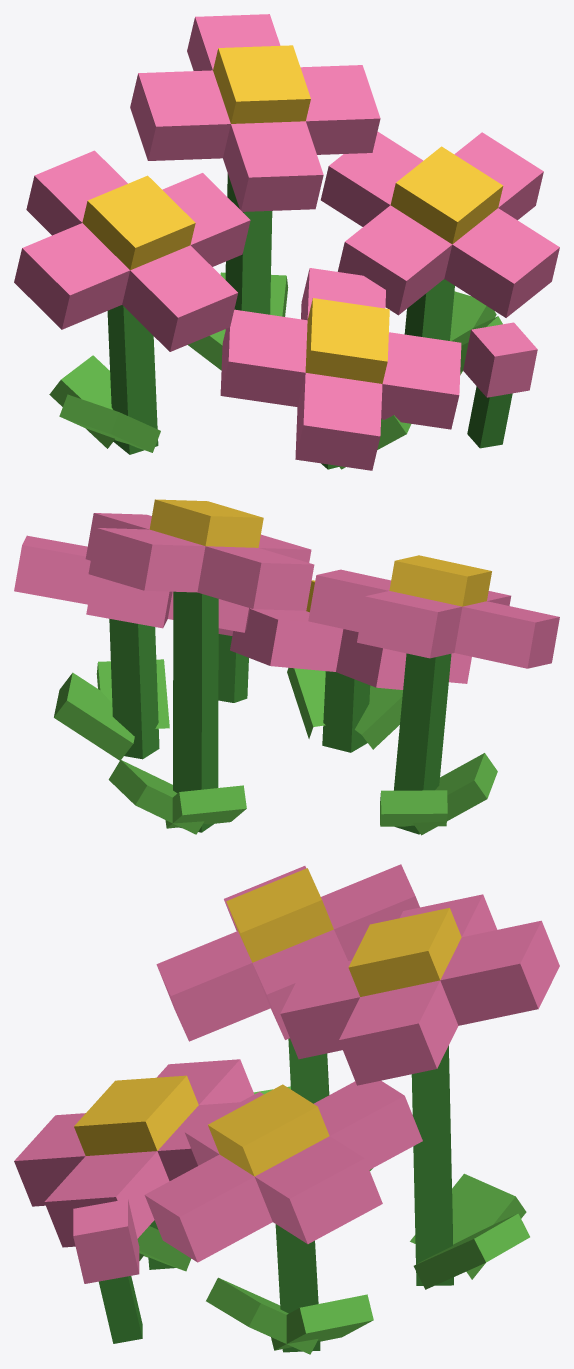
Rendered from Lobby_FlowerPink.glb.
3 views of the same model, one above another, from view 1: azimuth 30°, elevation 25°; view 2: azimuth 150°, elevation 25°; view 3: azimuth 270°, elevation 25° (orthographic). The views are drawn at different scales.
Visible parts, largest first — view 1: FlowerPink_Petals, FlowerPink_Centres, FlowerPink_Stems, FlowerPink_Leaves; view 2: FlowerPink_Petals, FlowerPink_Stems, FlowerPink_Leaves, FlowerPink_Centres; view 3: FlowerPink_Petals, FlowerPink_Centres, FlowerPink_Stems, FlowerPink_Leaves.
Part boxes in pixels (x1,y1,x2,y2): FlowerPink_Petals: (14, 14, 559, 470); FlowerPink_Centres: (82, 45, 503, 383); FlowerPink_Stems: (107, 173, 512, 469); FlowerPink_Leaves: (49, 272, 502, 469); FlowerPink_Petals: (14, 513, 559, 689); FlowerPink_Stems: (109, 591, 451, 834); FlowerPink_Leaves: (54, 659, 497, 835); FlowerPink_Centres: (149, 499, 491, 612); FlowerPink_Petals: (14, 864, 559, 1283); FlowerPink_Centres: (74, 868, 461, 1176); FlowerPink_Stems: (99, 1038, 453, 1352); FlowerPink_Leaves: (137, 1086, 529, 1354).
Bounding box in the file's own units: 0.5025 × 0.2988 × 0.4088.
